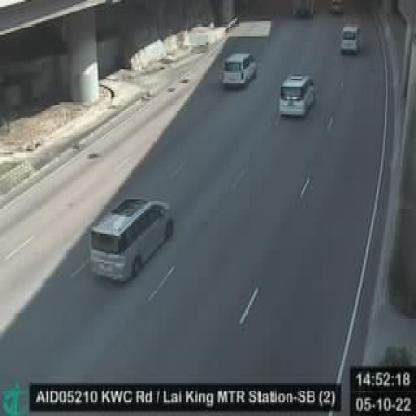Car: (87, 196, 172, 282), (279, 75, 316, 116), (220, 50, 256, 92), (340, 24, 362, 54)
